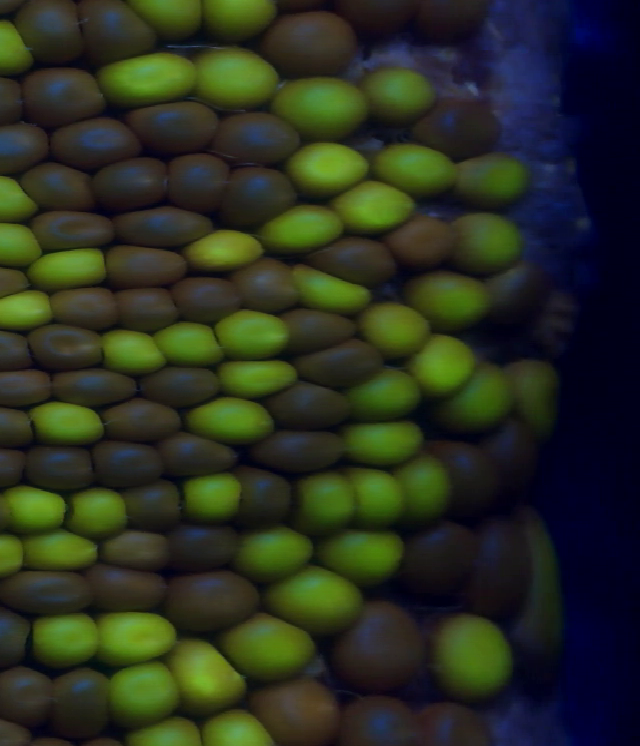fluorescent: (521, 524, 568, 702), (433, 612, 509, 697), (265, 567, 363, 629), (273, 78, 369, 139), (172, 637, 244, 716), (223, 617, 315, 677), (197, 48, 275, 112), (99, 54, 197, 102), (444, 367, 513, 434), (108, 660, 179, 725), (413, 267, 486, 328), (448, 213, 520, 274), (188, 397, 275, 447), (338, 177, 412, 235), (96, 612, 177, 664), (323, 529, 401, 583), (239, 529, 317, 582), (363, 300, 430, 361), (455, 149, 527, 205), (373, 142, 455, 191), (266, 202, 343, 254), (288, 140, 368, 189), (363, 72, 439, 122), (33, 611, 99, 668), (345, 421, 423, 469), (348, 370, 423, 419), (296, 473, 357, 533), (417, 335, 473, 396), (508, 362, 557, 431), (220, 309, 289, 357), (185, 229, 263, 271), (293, 267, 368, 310), (101, 327, 166, 375), (403, 456, 448, 525), (158, 318, 220, 368), (354, 467, 404, 529), (67, 488, 127, 539), (34, 402, 106, 444), (222, 358, 293, 400), (29, 250, 105, 289), (185, 474, 241, 523), (8, 484, 63, 533), (27, 530, 96, 569), (201, 711, 272, 746), (0, 291, 50, 332), (0, 222, 41, 266), (0, 176, 40, 220), (0, 532, 33, 582), (0, 21, 31, 74)
nonfluorescent: (338, 600, 427, 692), (473, 512, 533, 629), (268, 7, 358, 73), (250, 676, 333, 742), (403, 520, 473, 598), (167, 572, 257, 630), (219, 166, 298, 232), (49, 116, 143, 171), (213, 112, 303, 166), (487, 266, 549, 344), (19, 69, 106, 122), (81, 2, 157, 62), (417, 102, 500, 156), (308, 235, 392, 288), (433, 442, 495, 512), (45, 672, 106, 742), (267, 380, 348, 432), (336, 692, 420, 742), (94, 157, 171, 211), (18, 2, 83, 65), (0, 571, 92, 615), (491, 417, 538, 502), (298, 341, 380, 389), (250, 430, 342, 472), (130, 102, 206, 152), (87, 566, 167, 613), (238, 261, 305, 313), (23, 163, 94, 212), (28, 445, 98, 493), (420, 702, 496, 746), (55, 366, 138, 406), (113, 283, 178, 333), (116, 212, 206, 248), (105, 246, 184, 287), (97, 441, 163, 490), (238, 467, 291, 528), (161, 432, 235, 475), (31, 325, 103, 369), (287, 308, 359, 352), (393, 218, 455, 269), (35, 211, 118, 249), (174, 274, 239, 322), (168, 153, 225, 207), (142, 362, 206, 410), (104, 402, 182, 441), (103, 530, 175, 571), (0, 667, 47, 728), (49, 286, 116, 327), (124, 484, 183, 530), (0, 122, 50, 176), (168, 529, 233, 570), (0, 369, 55, 407), (0, 609, 32, 672), (0, 327, 35, 374), (0, 404, 34, 450), (0, 266, 30, 306)
